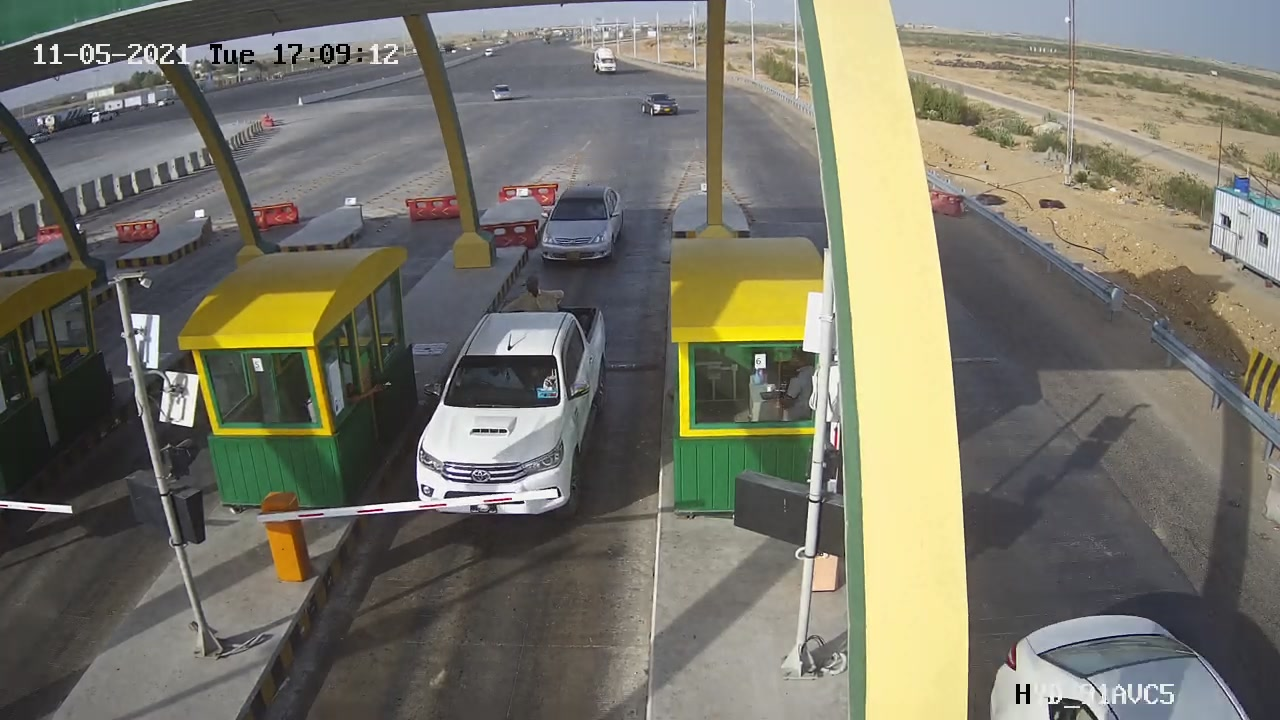F1: (387, 266, 644, 538), (522, 165, 646, 278)
